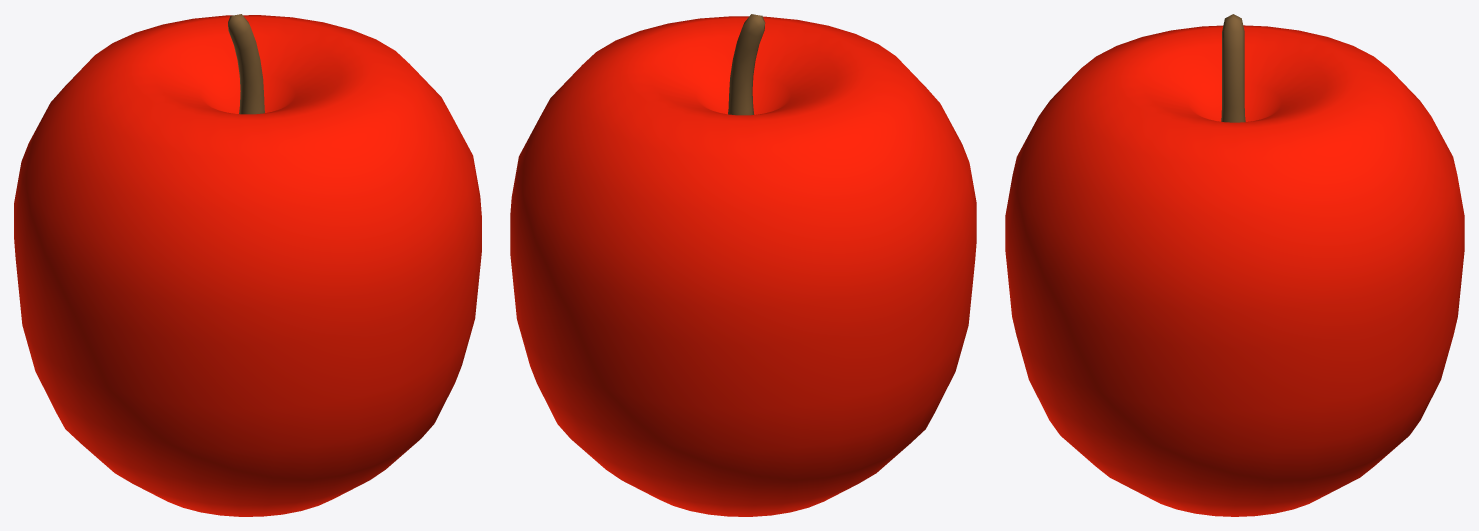
File: apple.FBX
3 views of the same model, side by side, from view 1: azimuth 30°, elevation 25°; view 2: azimuth 150°, elevation 25°; view 3: azimuth 270°, elevation 25° (orthographic). The views are drawn at different scales.
Visible parts, largest first — view 1: Sphere001, Box001; view 2: Sphere001, Box001; view 3: Sphere001, Box001.
Boxes of the visible parts, <box> form: Sphere001: <box>14,15,481,516</box>; Box001: <box>228,14,264,114</box>; Sphere001: <box>510,16,976,516</box>; Box001: <box>728,14,765,115</box>; Sphere001: <box>1005,25,1464,516</box>; Box001: <box>1221,14,1245,122</box>.
Size of the model in its own units: 11.73 by 11.73 by 12.72.
Materials: 2 (2 with a texture image).
